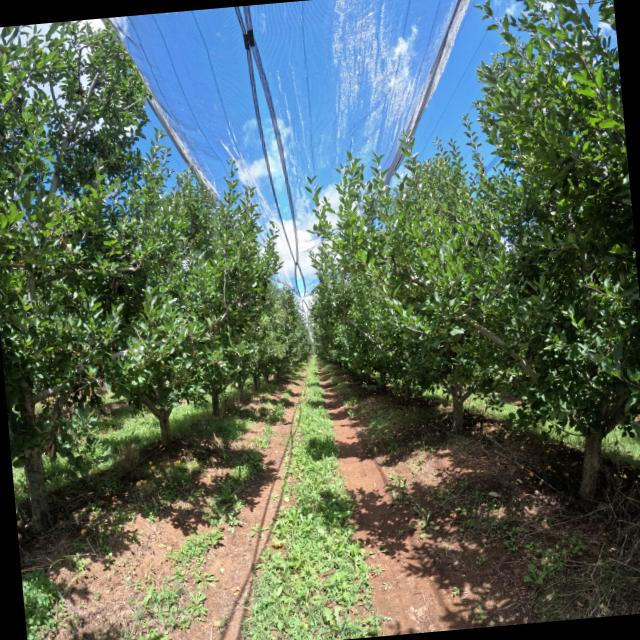-FireBlight-: (46, 375, 108, 457), (58, 232, 68, 249)
